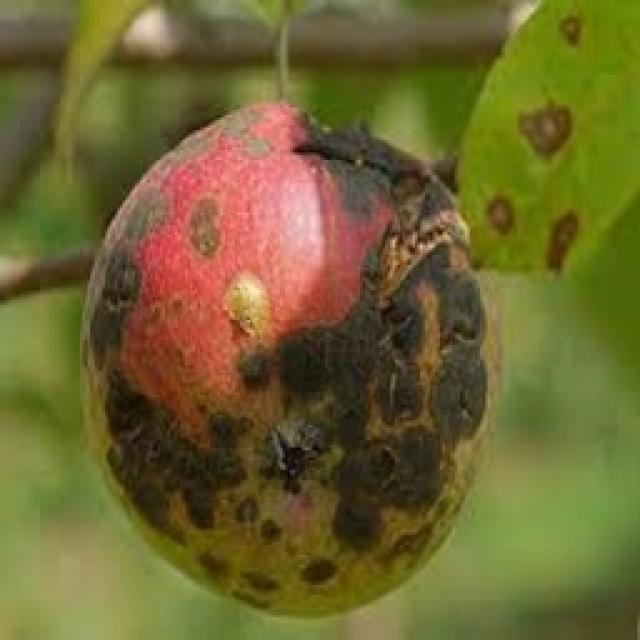defective: (75, 98, 498, 620)
